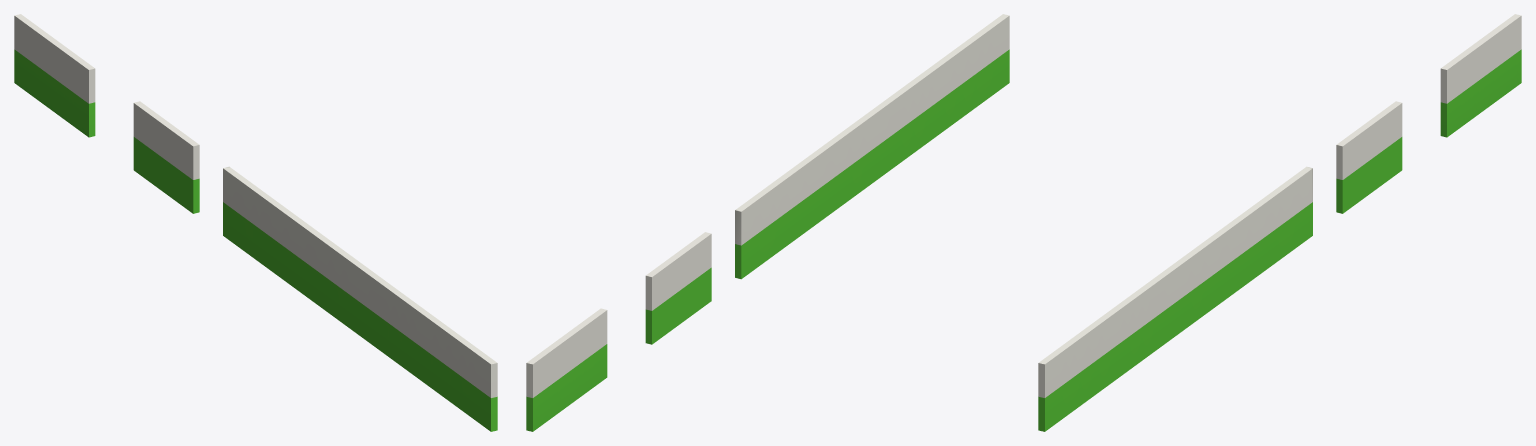
The model's file is Wall_Left.fbx.
The picture shows the model from 3 angles, left to right: view 1: azimuth 30°, elevation 25°; view 2: azimuth 150°, elevation 25°; view 3: azimuth 330°, elevation 25°; orthographic projection.
Visible parts, largest first — view 1: Wall_Left; view 2: Wall_Left; view 3: Wall_Left.
Boxes of the visible parts, bbox=[...] form: Wall_Left: bbox=[14, 14, 497, 431]; Wall_Left: bbox=[526, 14, 1009, 431]; Wall_Left: bbox=[1038, 14, 1521, 431].
Bounding box in the file's own units: 25 × 250 × 3200.
